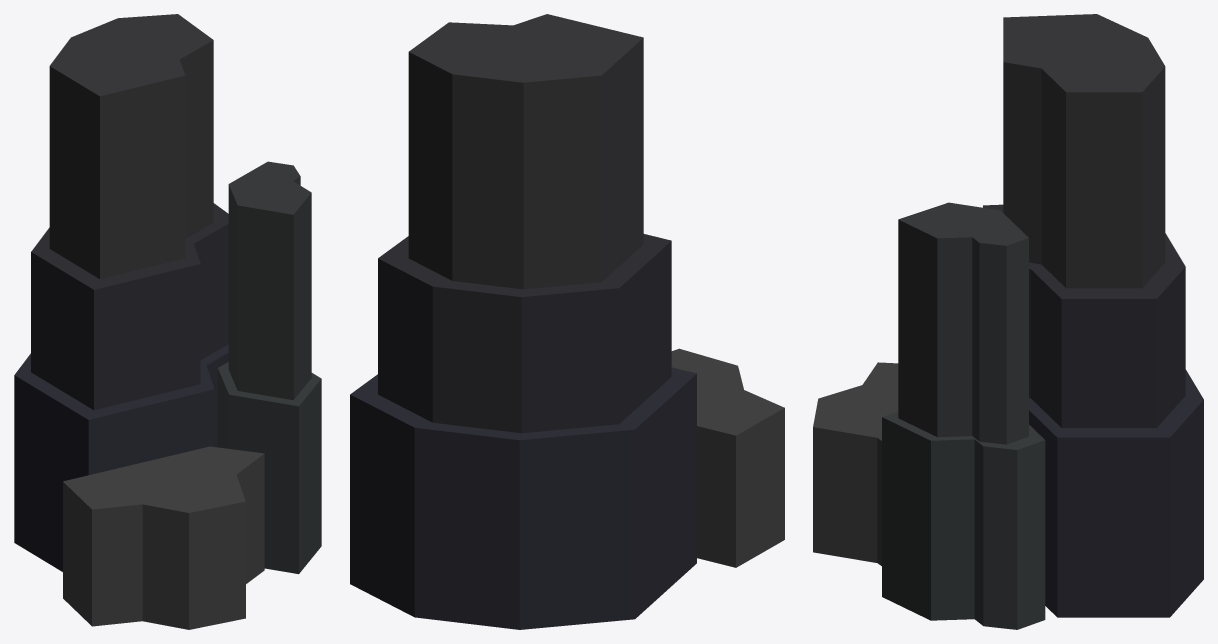
File: NC_Stone01.fbx
The picture shows the model from 3 angles, left to right: view 1: azimuth 30°, elevation 25°; view 2: azimuth 150°, elevation 25°; view 3: azimuth 270°, elevation 25°; orthographic projection. The views are drawn at different scales.
Parts seen in each view (by area): view 1: NC_Stone01; view 2: NC_Stone01; view 3: NC_Stone01.
Boxes of the visible parts, x1,y1,x2,y2 form: NC_Stone01: (14, 14, 321, 629); NC_Stone01: (350, 14, 784, 629); NC_Stone01: (813, 14, 1203, 629).
Bounding box in the file's own units: 70.99 × 118 × 82.46.
Materials: 1 (1 with a texture image).
